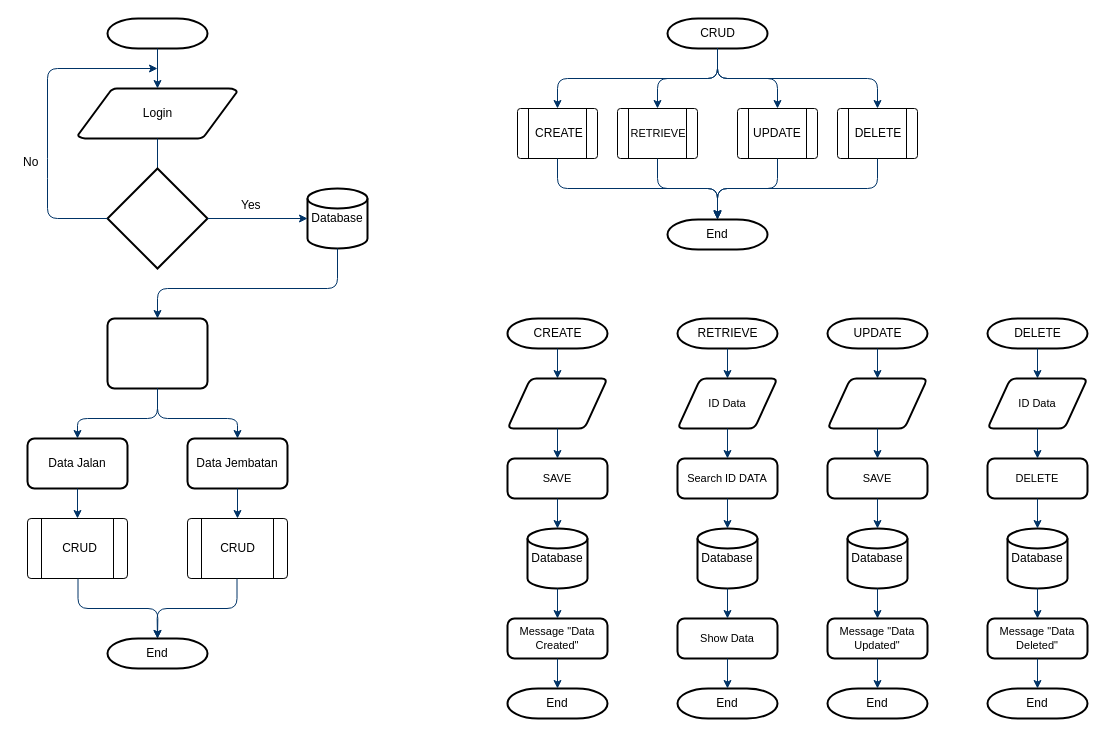
Some shapes in this 1105 by 736 pixel diagram are drawn without their labels. Each missing label, with the box of its shape:
Data: (506, 377, 608, 429)
Edit Data: (826, 377, 928, 429)
Halaman Dashboard: (106, 317, 208, 389)
start: (106, 17, 208, 49)
Validasi Login: (106, 167, 208, 269)
